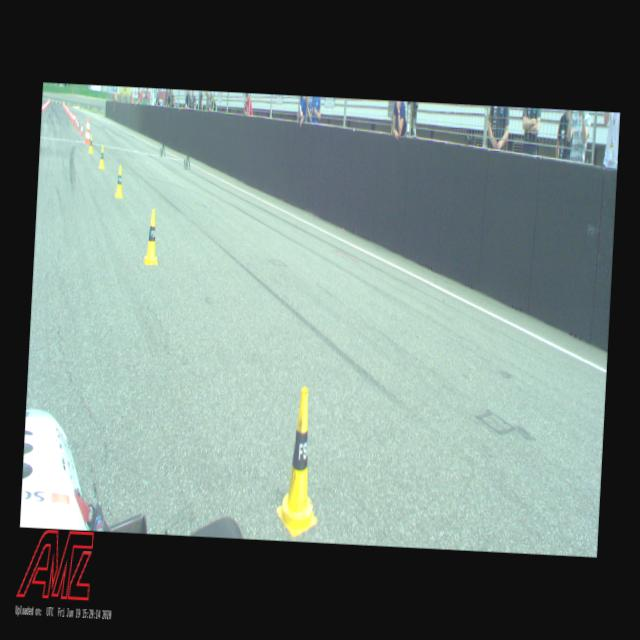large_orange_cone: (85, 119, 92, 144), (84, 117, 89, 143)
orange_cone: (80, 122, 84, 136), (76, 119, 80, 131), (75, 116, 78, 127)
yellow_cone: (275, 386, 324, 538), (143, 208, 161, 266), (114, 165, 126, 199), (98, 146, 106, 170), (88, 134, 94, 154)
